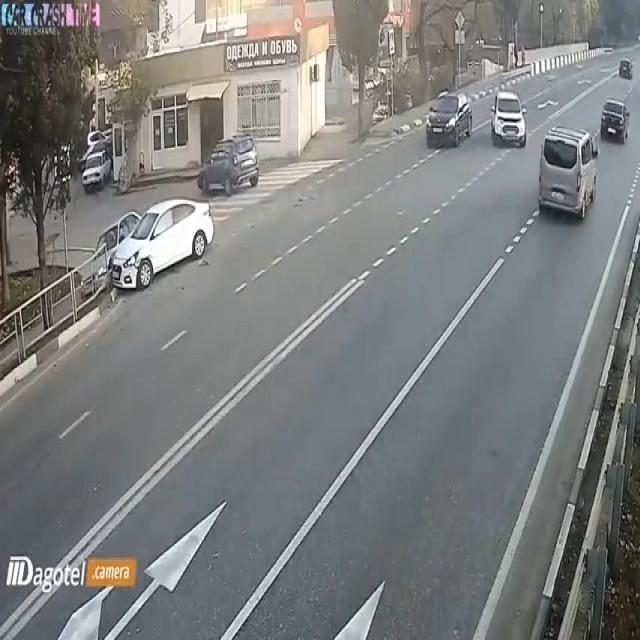Accident: (96, 185, 216, 295)
